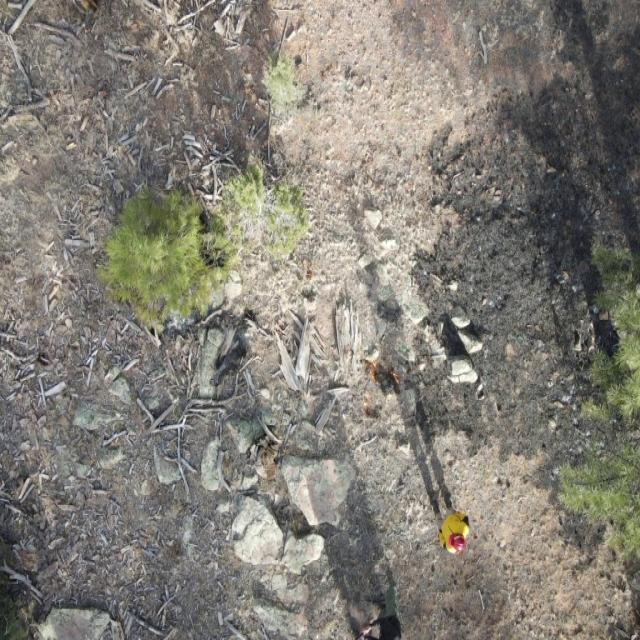fire: (366, 354, 402, 390), (362, 402, 374, 420)
